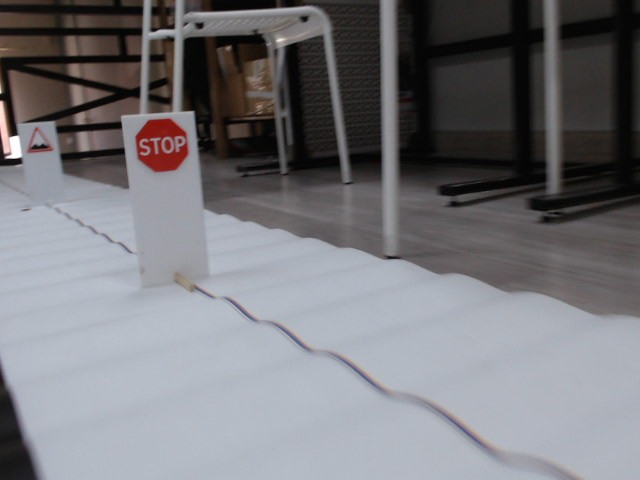Stop: (134, 118, 190, 169)
